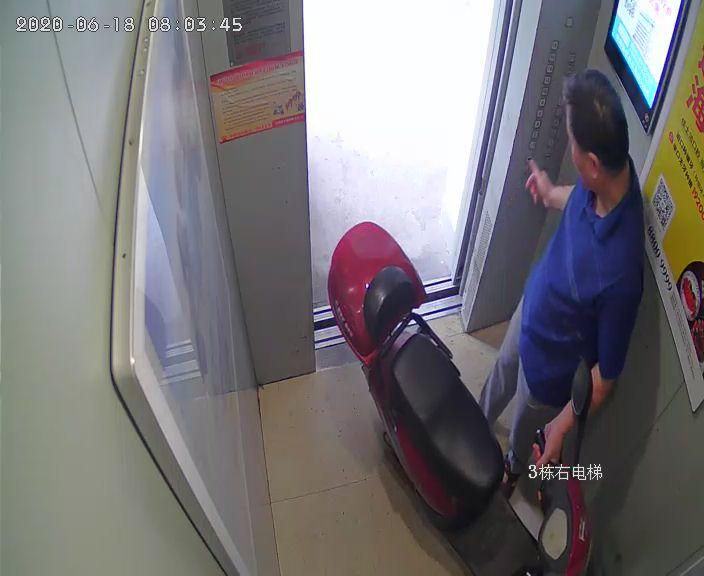Electric-bicycle: (326, 219, 591, 569)
